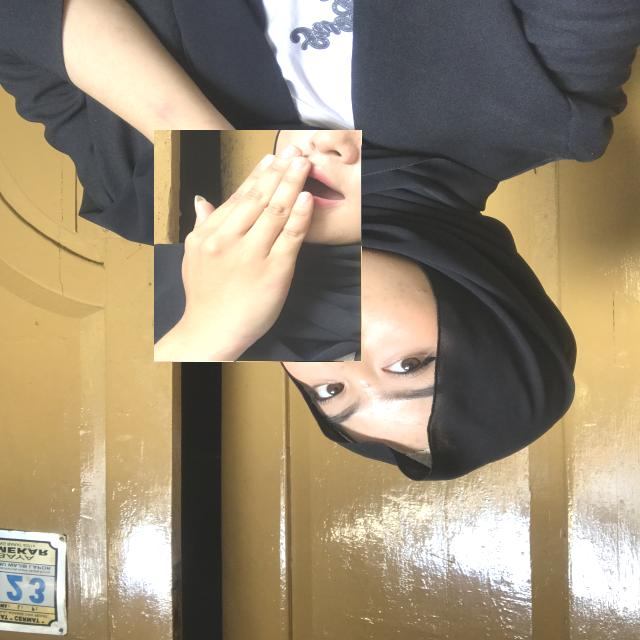ngantuk: (154, 130, 362, 362)
